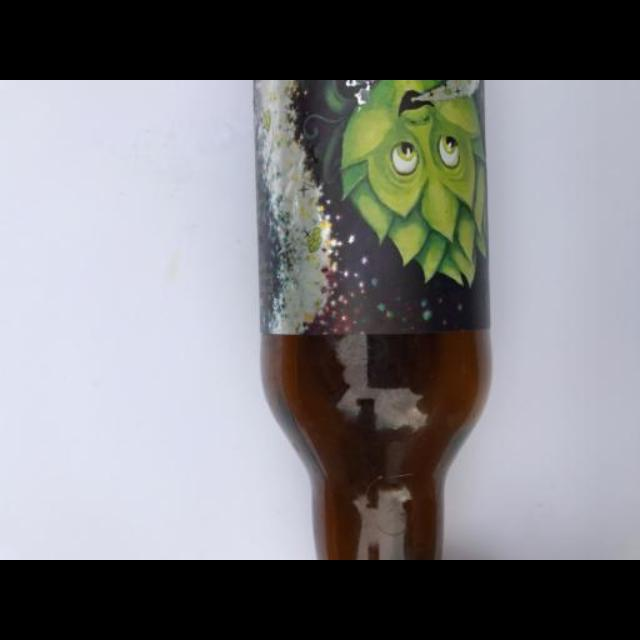garrafa de vidro: (259, 80, 495, 560)
